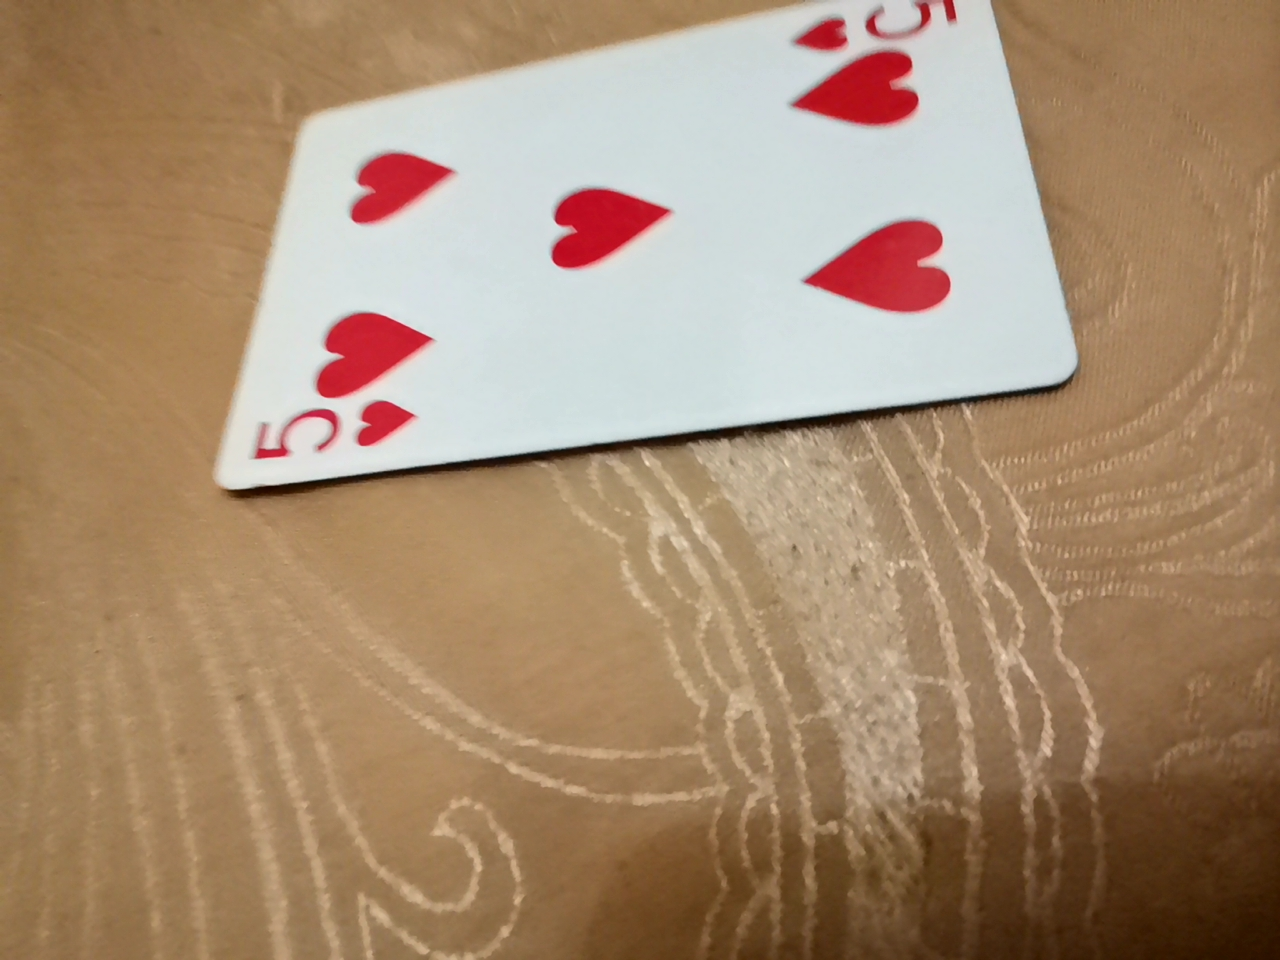hx 5: (217, 90, 1064, 580)
